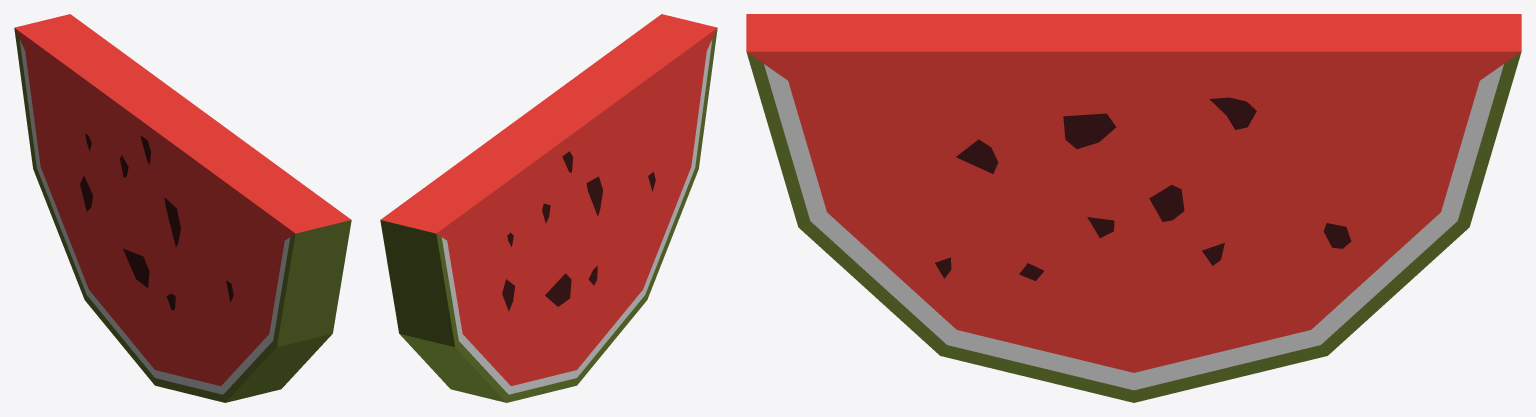
File: Sandia.fbx
The picture shows the model from 3 angles, left to right: view 1: azimuth 30°, elevation 25°; view 2: azimuth 150°, elevation 25°; view 3: azimuth 270°, elevation 25°; orthographic projection. The views are drawn at different scales.
Parts seen in each view (by area): view 1: Sandia; view 2: Sandia; view 3: Sandia.
Part boxes in pixels (x1=…): Sandia: x1=14, y1=14, x2=351, y2=402; Sandia: x1=380, y1=14, x2=717, y2=402; Sandia: x1=746, y1=14, x2=1521, y2=402.
Bounding box in the file's own units: 146 × 634 × 1268.
